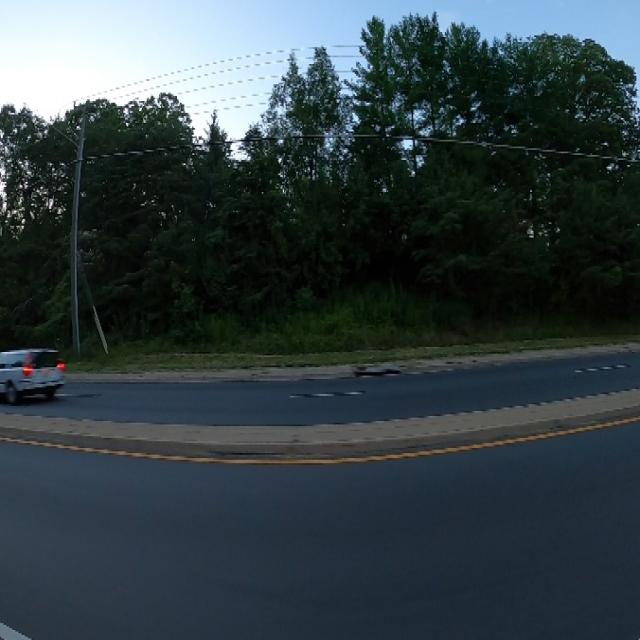Cars: (1, 348, 71, 402)
